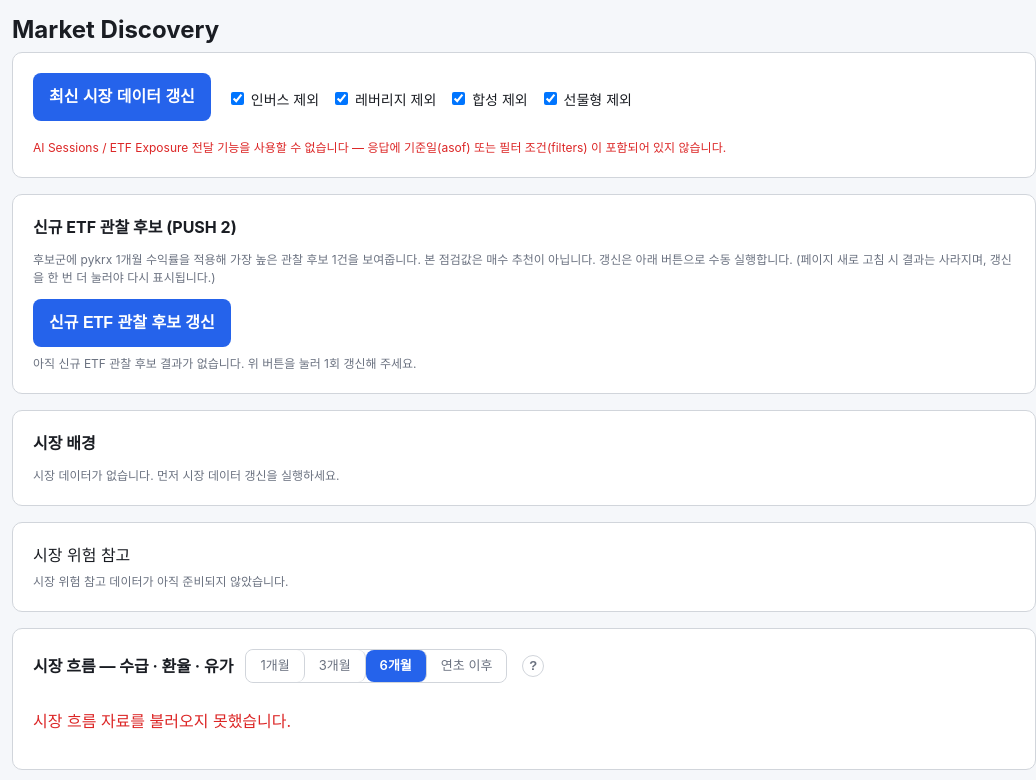
Scenario: 시장 데이터 갱신 완료 사유 표시 (POC5-10) › 사유가 없으면 예전 완료 문구 그대로(확인 필요 없음)
The image size is (1036, 780).
Click the button "최신 시장 데이터 갱신" at {"x": 122, "y": 97}, box [33, 73, 211, 121]
Wait 4100 ms
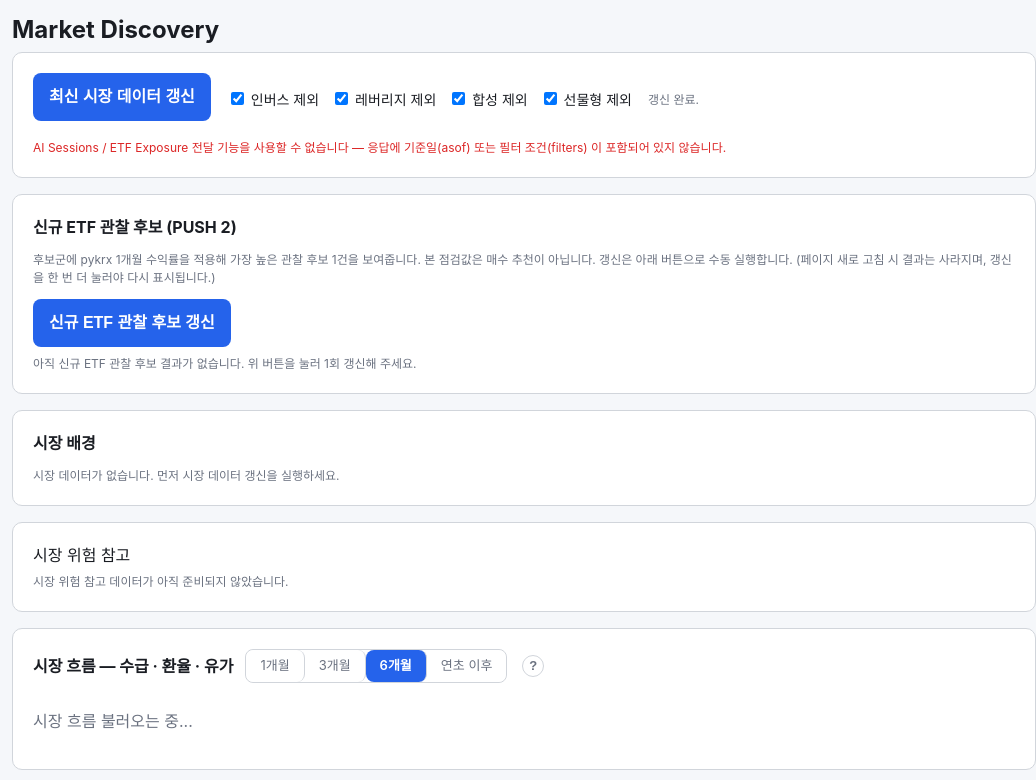
Expected: the text "갱신 완료." is shown, [648, 91, 699, 109]
